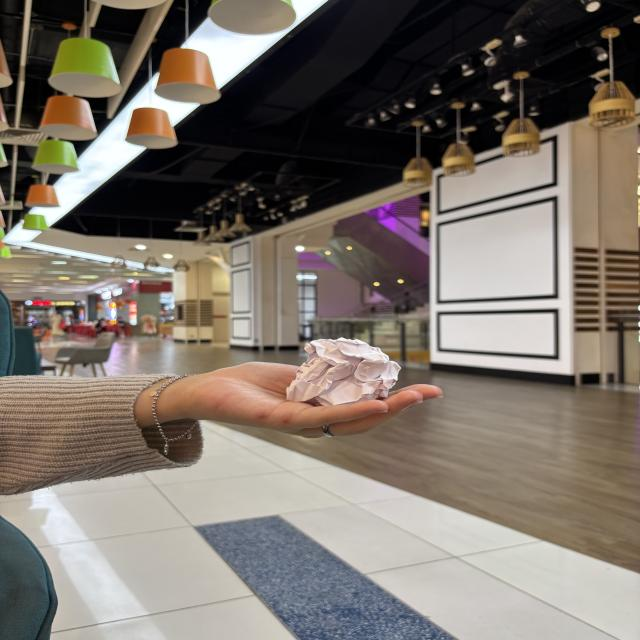crumpled_paper: (282, 332, 405, 411)
